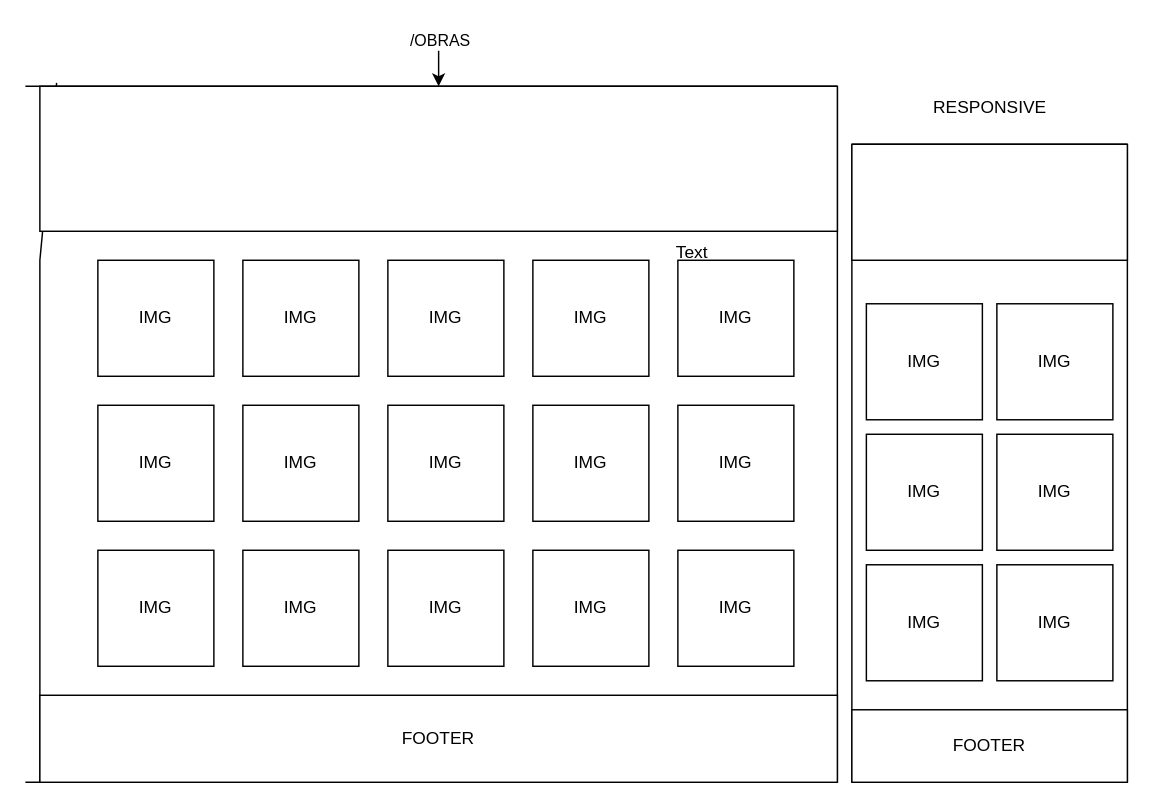
Image size: 1154x809. Some labels were removed from this diagram. The box of each missing label's shape, as (x1, y1, x2, y2) in pixels:
BARRA DE NAVEGACION: (38, 85, 837, 231)
NAV BAR: (850, 143, 1127, 260)
